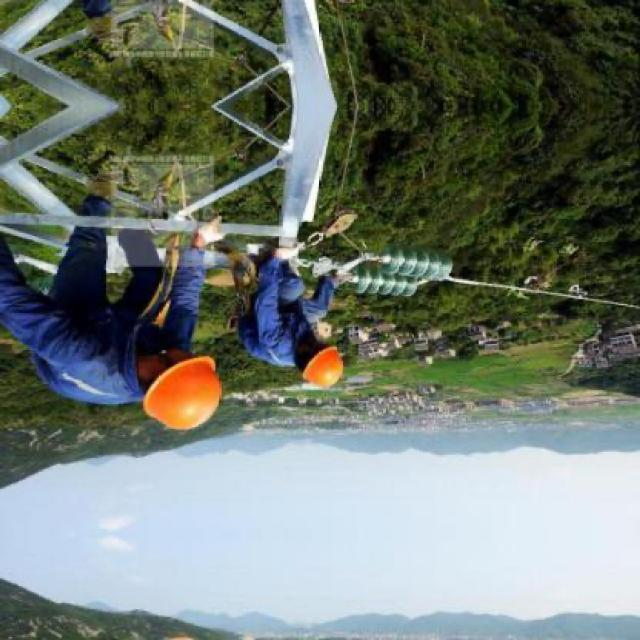con casco: (122, 328, 239, 441), (277, 322, 351, 402)
